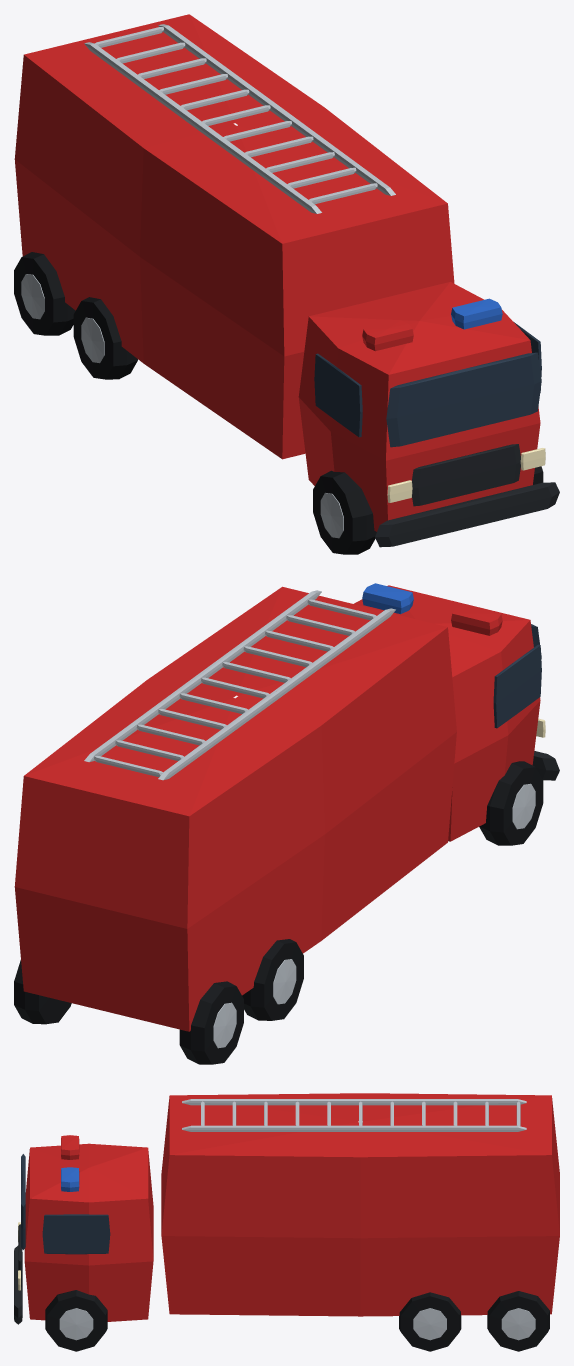
File: s-firetruck.glb
3 views of the same model, one above another, from view 1: azimuth 30°, elevation 25°; view 2: azimuth 150°, elevation 25°; view 3: azimuth 270°, elevation 25° (orthographic). The views are drawn at different scales.
Parts seen in each view (by area): view 1: p; view 2: p; view 3: p.
Part boxes in pixels (x1=…): p: x1=14, y1=14, x2=559, y2=554; p: x1=14, y1=583, x2=559, y2=1064; p: x1=14, y1=1093, x2=559, y2=1351.
Bounding box in the file's own units: 2.62 × 3.6 × 8.64.
